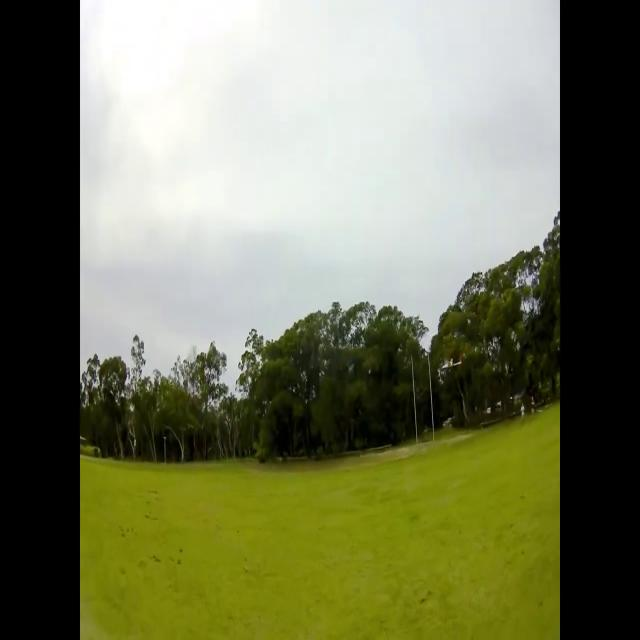iha: (439, 364, 464, 366)
